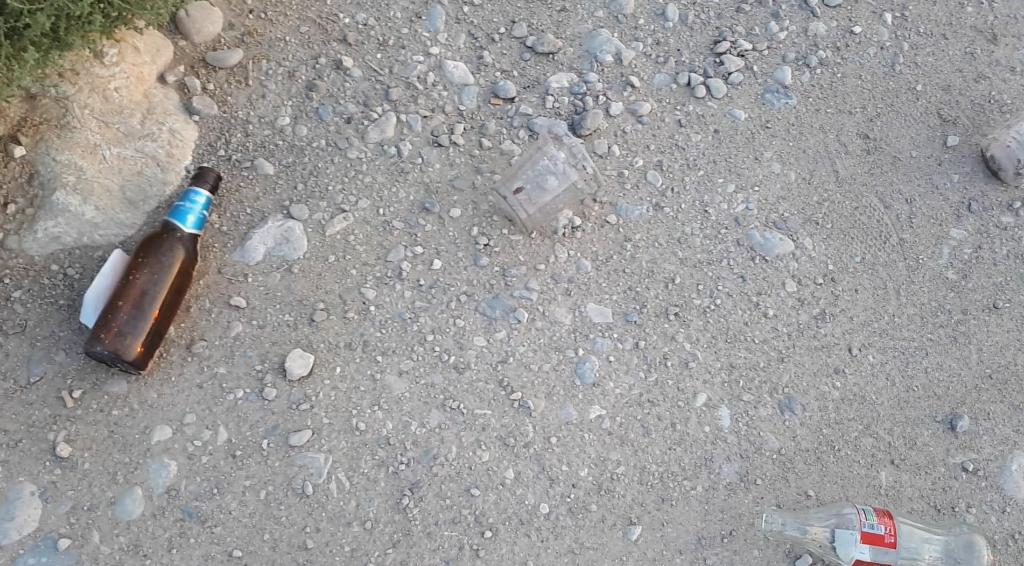garbage: (45, 164, 253, 404), (83, 166, 222, 376), (753, 483, 998, 566), (761, 501, 994, 566)
